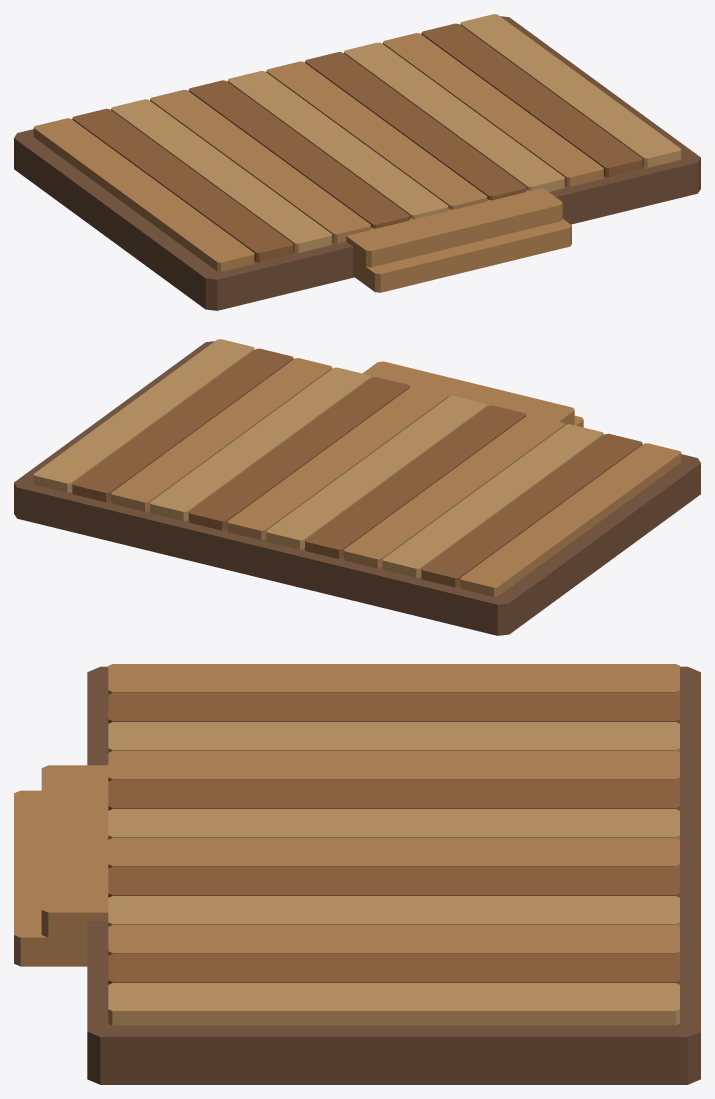
Rendered from wood_base.glb.
The picture shows the model from 3 angles, top to bottom: view 1: azimuth 30°, elevation 25°; view 2: azimuth 150°, elevation 25°; view 3: azimuth 270°, elevation 25°; orthographic projection. The views are drawn at different scales.
Parts seen in each view (by area): view 1: wood_base; view 2: wood_base; view 3: wood_base.
Boxes of the visible parts, x1,y1,x2,y2 form: wood_base: (14, 14, 700, 310); wood_base: (14, 339, 700, 635); wood_base: (14, 664, 700, 1084).
Bounding box in the file's own units: 0.664 × 0.052 × 0.5205.
